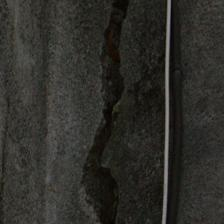Crack: (37, 3, 100, 218)
